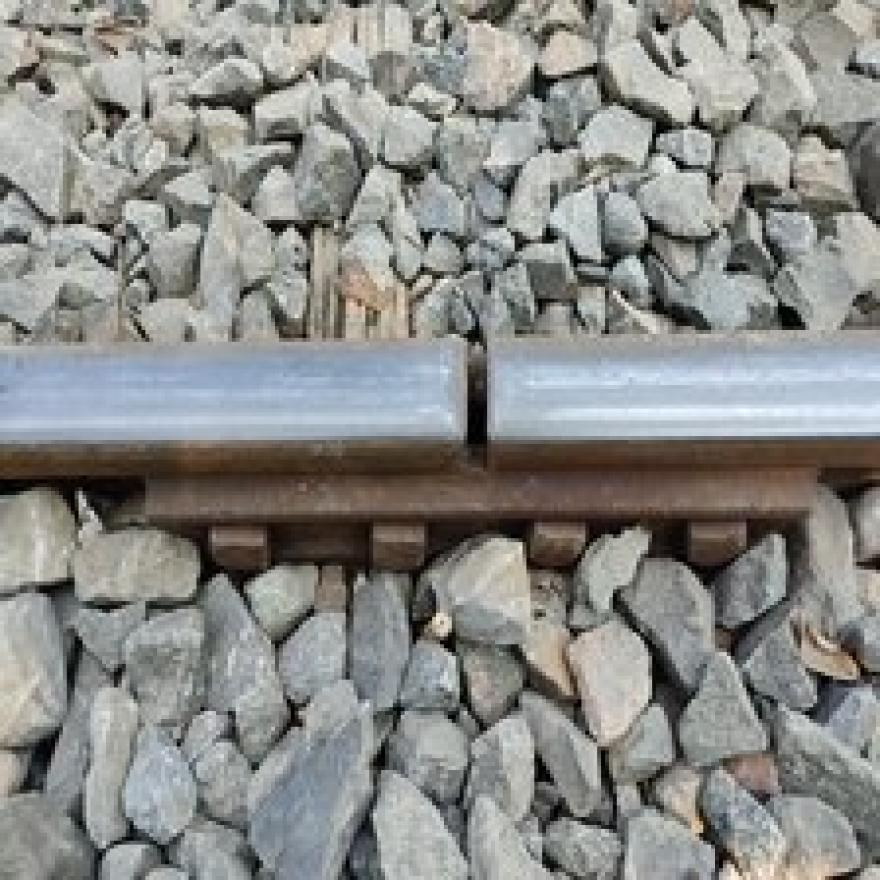railway-gap: (380, 298, 578, 512)
